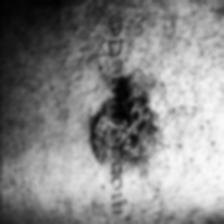Potentially Malignant Skin Tumors: (122, 74, 154, 182), (86, 91, 109, 169)
